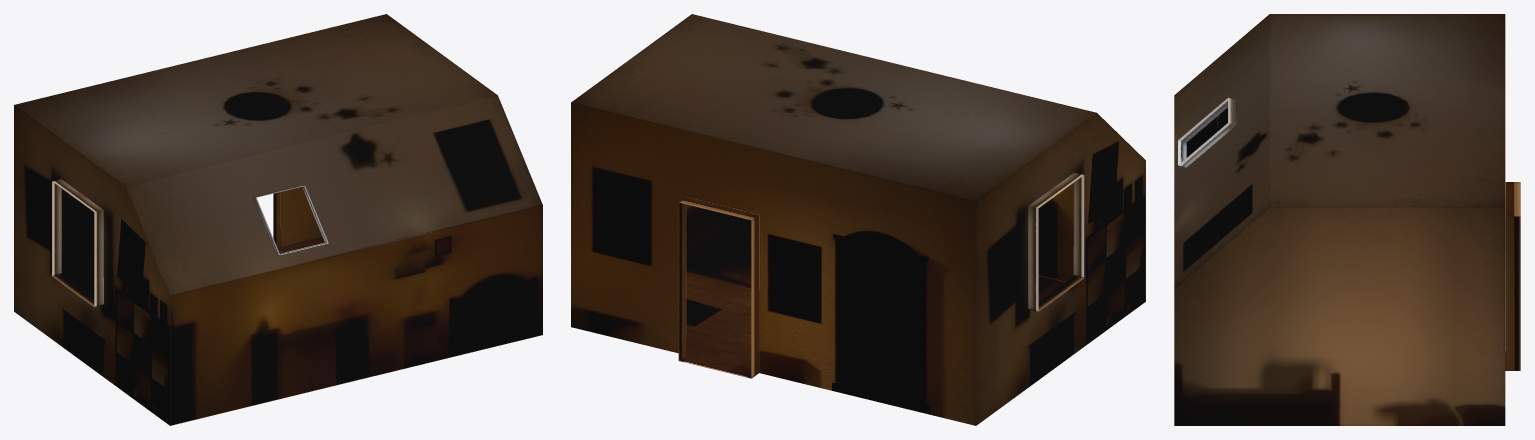
Rendered from G2_SM_piece.gltf.
The picture shows the model from 3 angles, left to right: view 1: azimuth 30°, elevation 25°; view 2: azimuth 150°, elevation 25°; view 3: azimuth 270°, elevation 25°; orthographic projection. The views are drawn at different scales.
Visible parts, largest first — view 1: chambre; view 2: chambre; view 3: chambre.
Boxes of the visible parts, x1,y1,x2,y2 form: chambre: [14, 14, 542, 425]; chambre: [571, 14, 1145, 425]; chambre: [1174, 14, 1520, 425].
Bounding box in the file's own units: 4.58 × 2.37 × 3.39.
